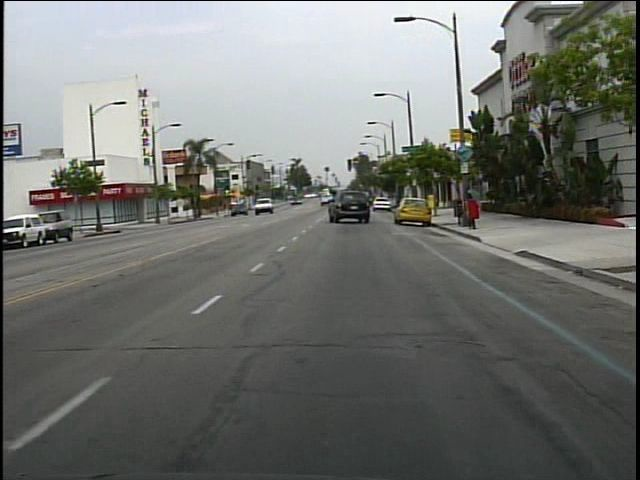person: (461, 185, 482, 218)
